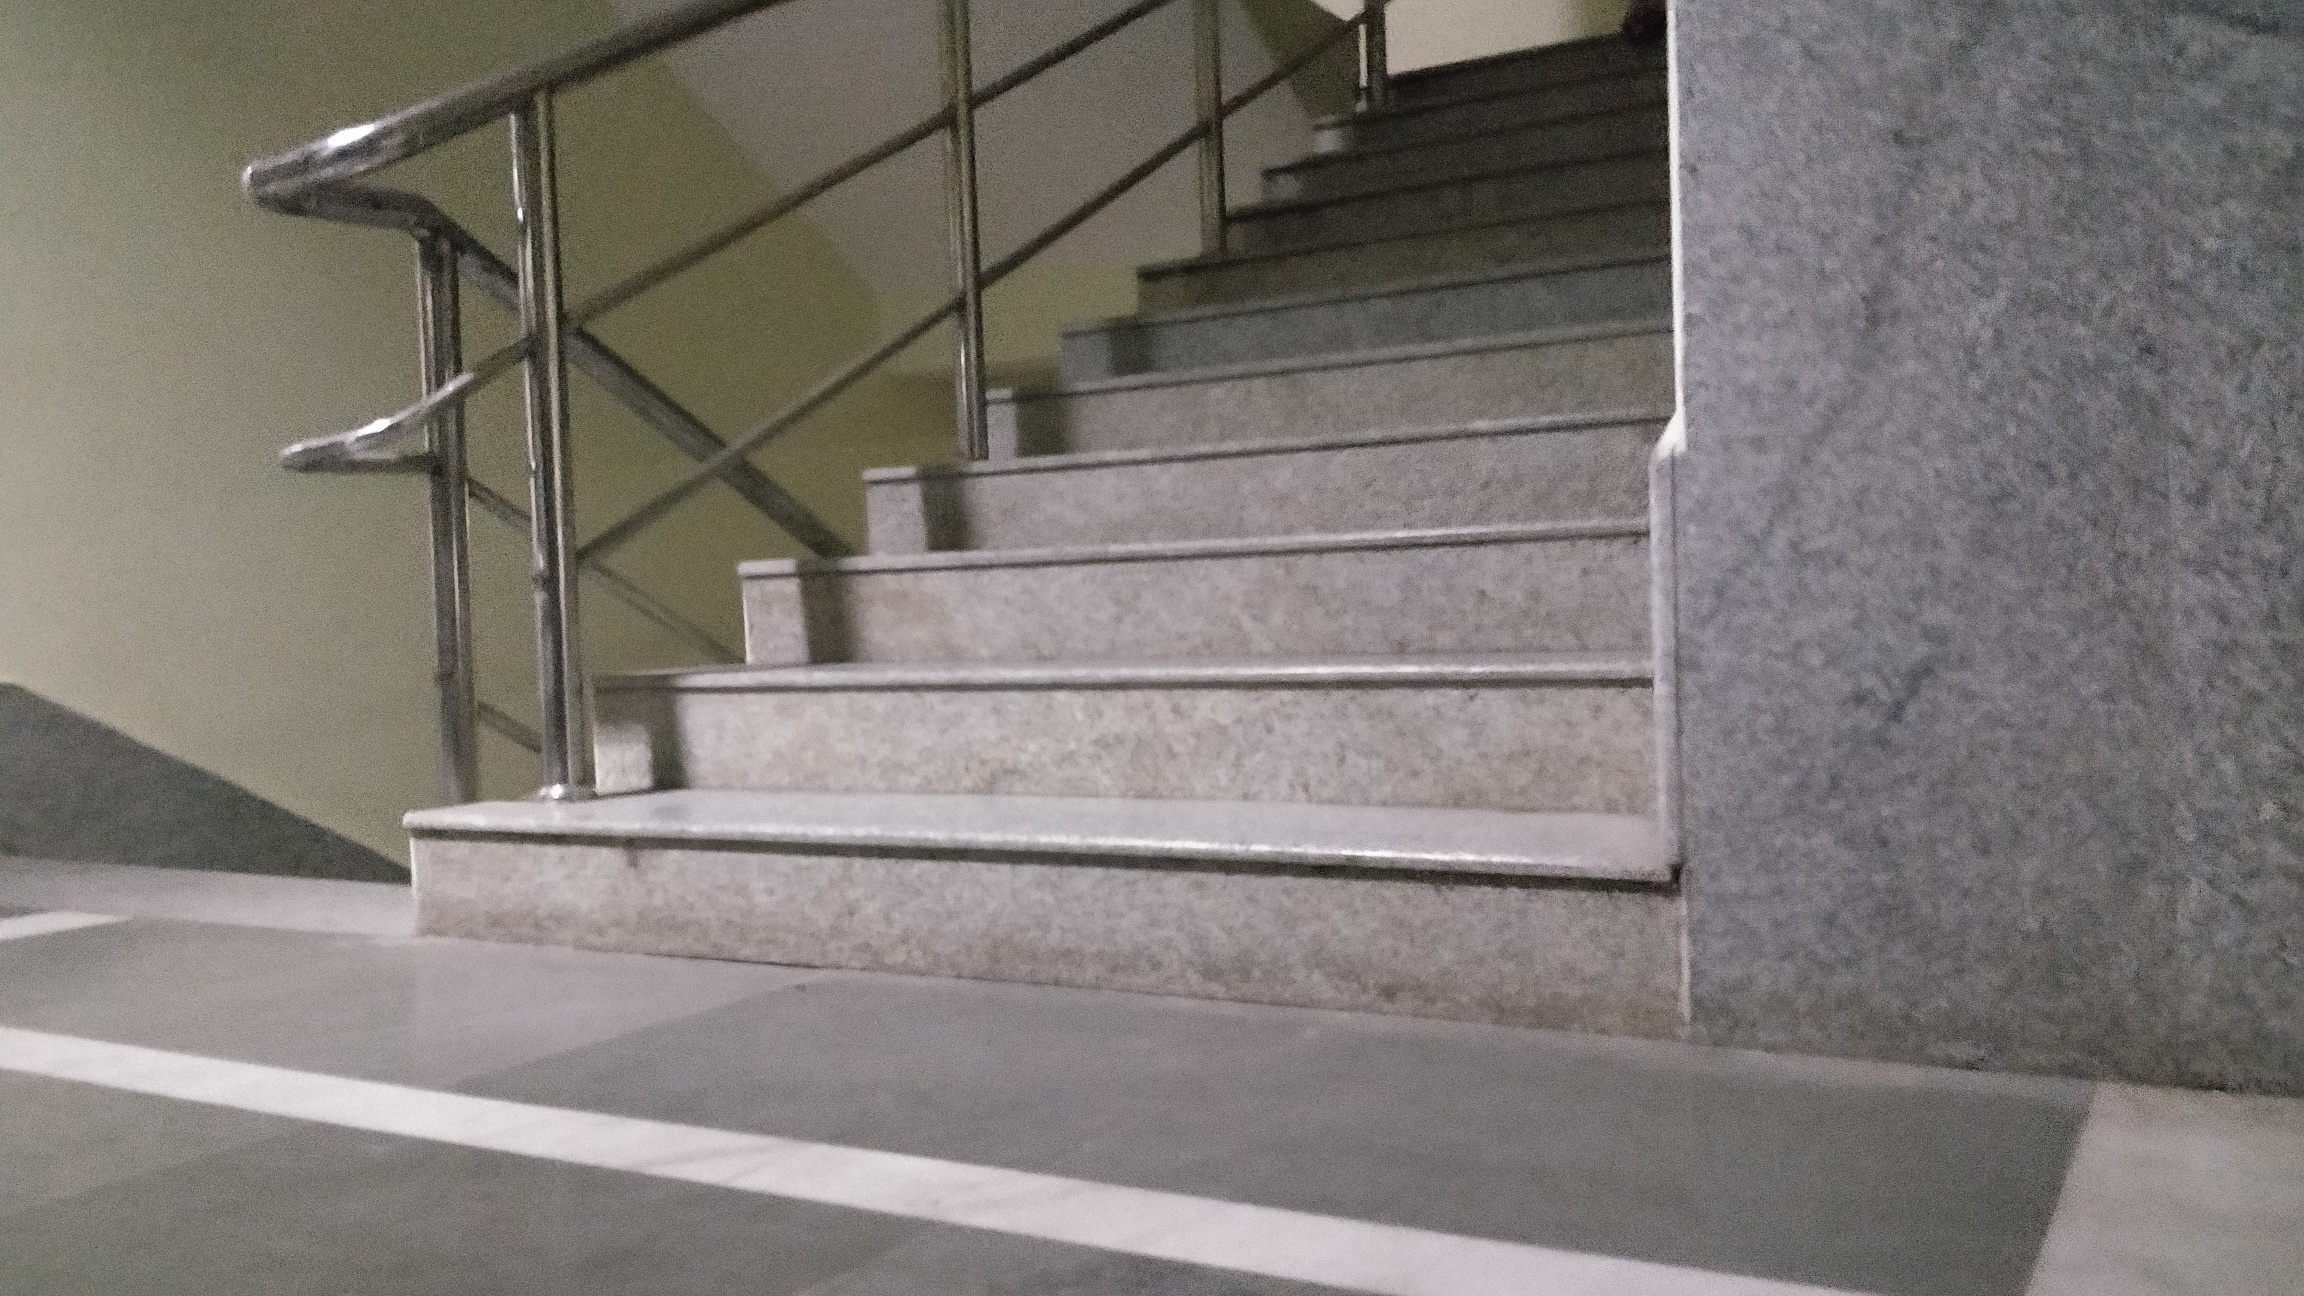stairs_up: (460, 11, 1658, 999)
